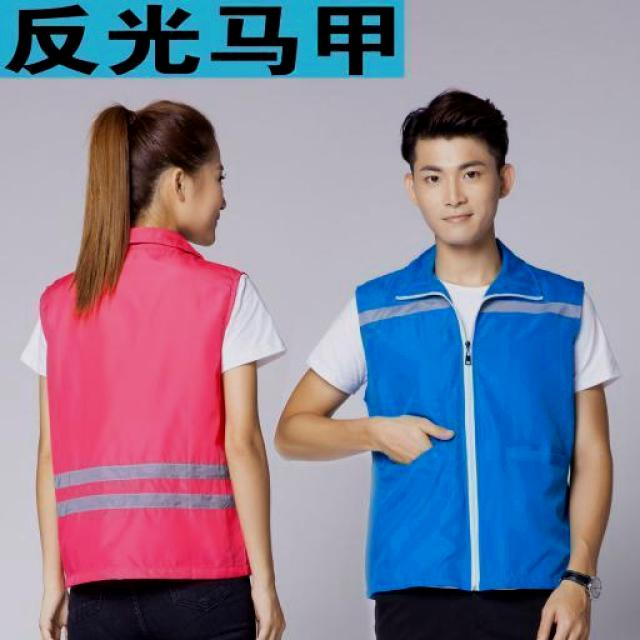face_nomask: (412, 152, 496, 237), (194, 165, 236, 237)
hand_noglove: (532, 582, 598, 640), (246, 582, 296, 640), (38, 577, 78, 640)
head_nohelmet: (396, 80, 514, 158), (118, 90, 228, 170)
person: (272, 72, 628, 640), (16, 85, 294, 640)
vest: (347, 238, 603, 592), (38, 228, 260, 584)
